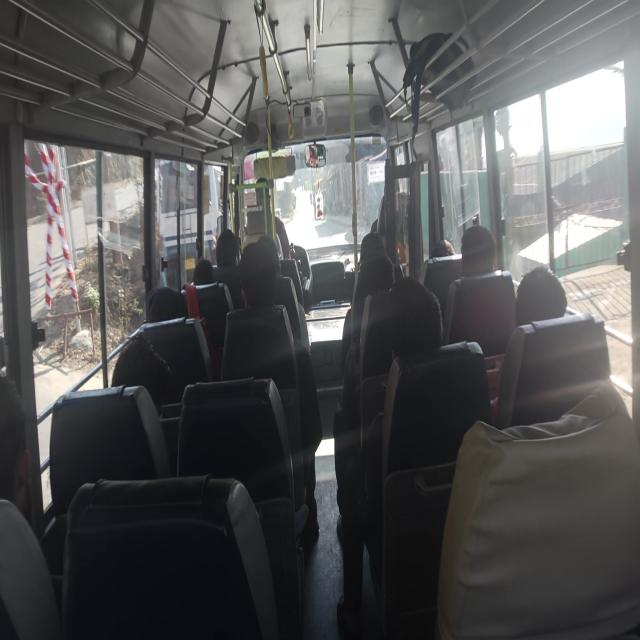person: (0, 368, 54, 527), (101, 338, 167, 428), (516, 255, 580, 347), (236, 248, 284, 325), (391, 279, 436, 357), (136, 284, 194, 330), (464, 236, 498, 295), (370, 254, 405, 301), (356, 218, 391, 258), (196, 254, 224, 299), (218, 228, 247, 264), (434, 233, 462, 262), (260, 233, 285, 260)
